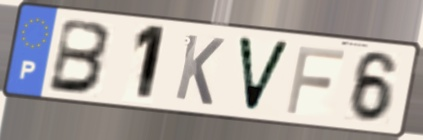1: (129, 24, 167, 108)
6: (343, 49, 404, 127)
B: (45, 16, 115, 97)
F: (283, 43, 347, 117)
K: (172, 31, 227, 109)
V: (234, 34, 294, 116)
